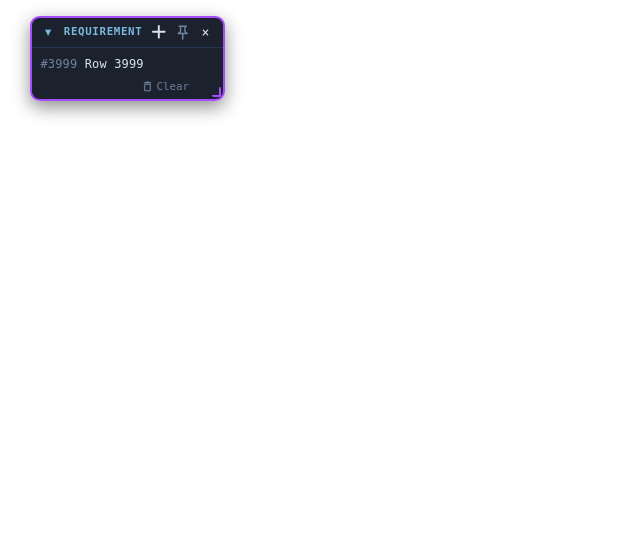
Test case: Requirement Filer (req #3811) › a reopen waits for a create still being filed, which still joins the list (req #3830, #3860)
Click the button with test id "requirement-filer-add" at (159, 32), box [150,23,169,42]
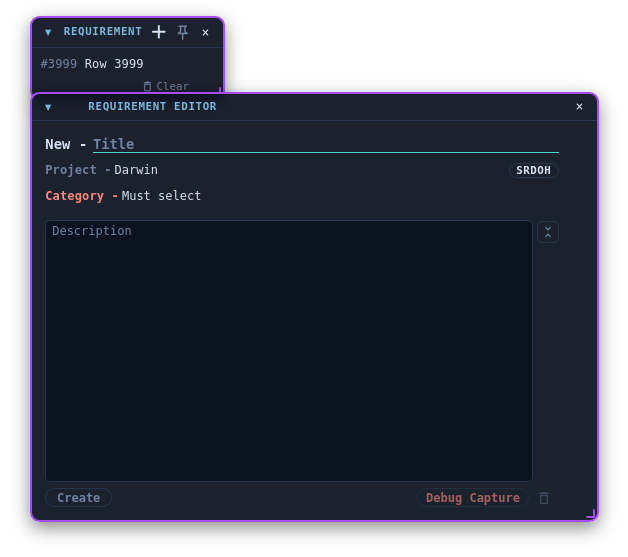
Type "In flight" into the field with test id "requirement-editor-field-title" at (326, 144), box [93,136,559,153]
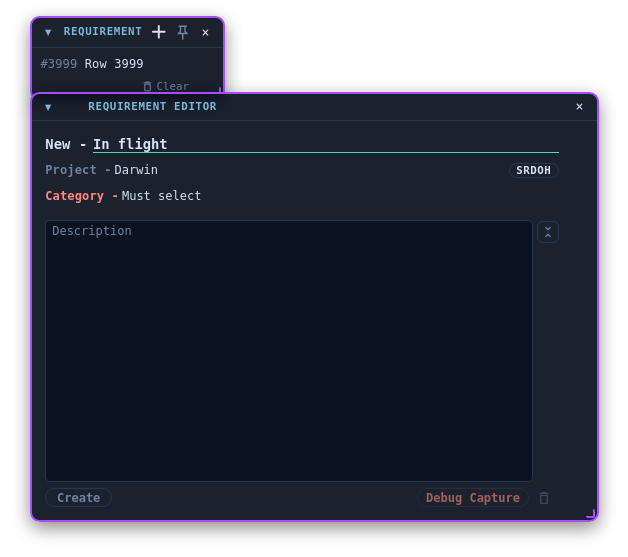
Select "Swarm" in the dropdown with test id "requirement-editor-field-category" at (162, 197), box [122,188,202,206]
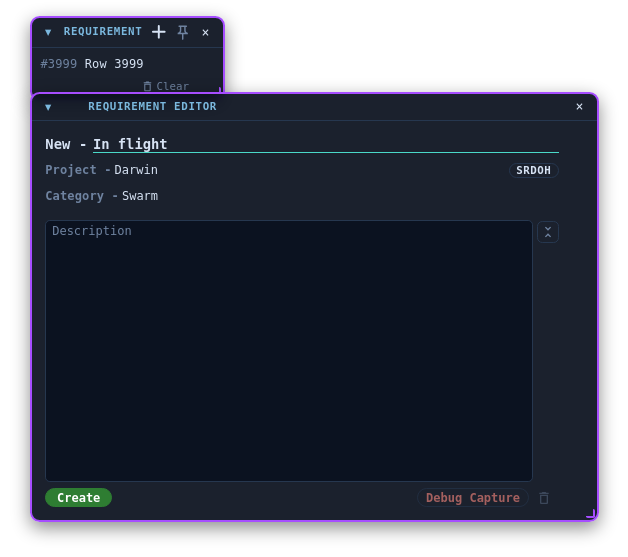
Click the button with test id "requirement-editor-save" at (79, 498), box [45,488,112,507]
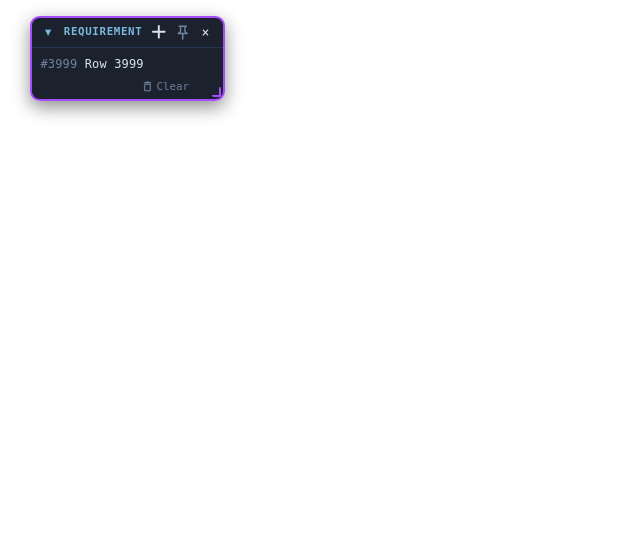
Click the button with test id "requirement-filer-item-3999" at (92, 64), box [40,57,144,71]
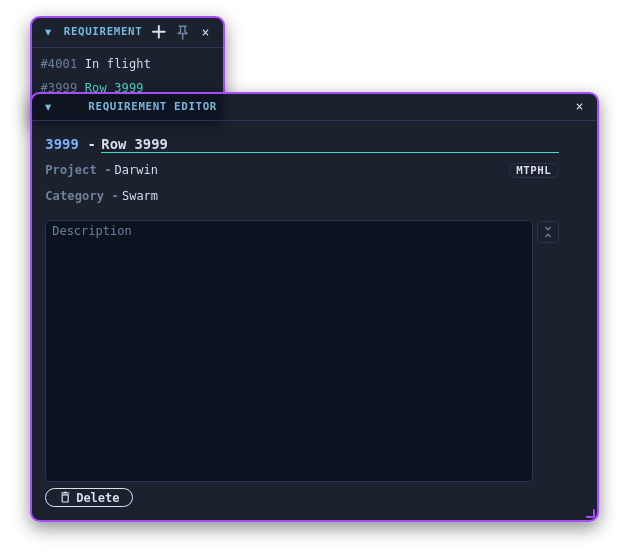
Result: the link with test id "requirement-editor-id-link" reads "3999" at [45,136,79,152]
Result: the button with test id "requirement-filer-item-4001" reads "#4001 In flight" at [40,57,151,71]
